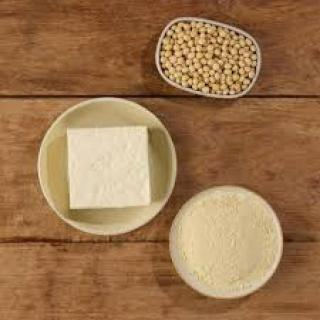Tahu: (62, 125, 155, 217)
